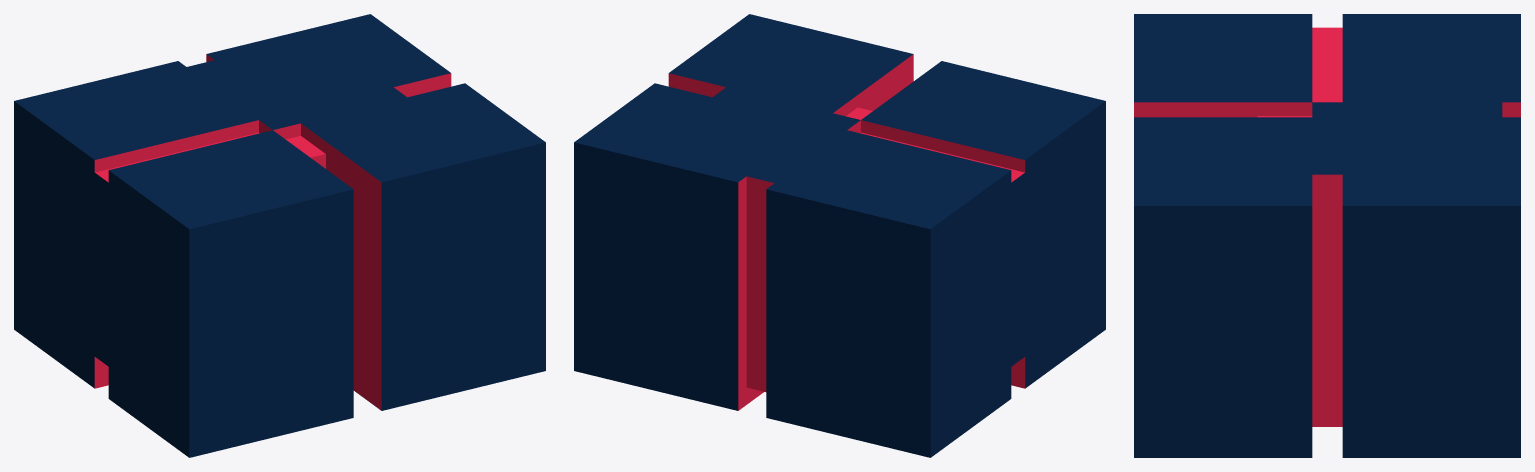
Rendered from Platform07.fbx.
3 views of the same model, side by side, from view 1: azimuth 30°, elevation 25°; view 2: azimuth 150°, elevation 25°; view 3: azimuth 270°, elevation 25° (orthographic). The views are drawn at different scales.
Visible parts, largest first — view 1: Box067; view 2: Box067; view 3: Box067.
Part boxes in pixels (x1=…): Box067: x1=14, y1=14, x2=545, y2=457; Box067: x1=574, y1=14, x2=1105, y2=457; Box067: x1=1134, y1=14, x2=1520, y2=457.
Size of the model in its own units: 129 by 78.82 by 110.
